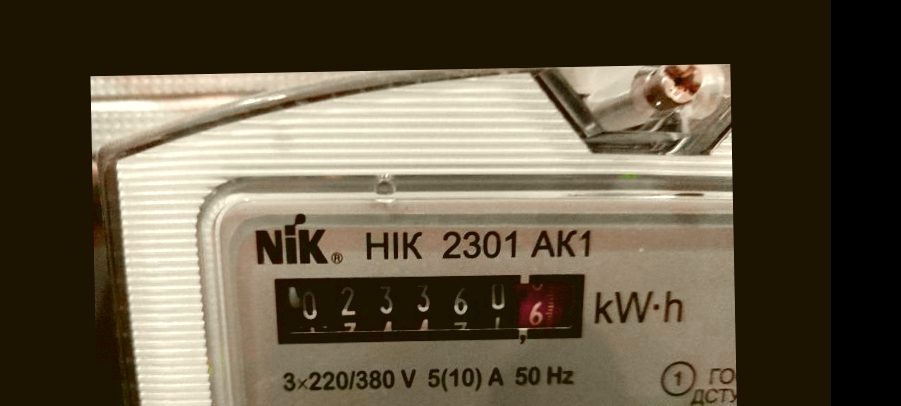0: (298, 286, 319, 320), (489, 279, 506, 310)
2: (336, 283, 359, 317)
3: (374, 282, 395, 314), (413, 280, 432, 312)
6: (449, 282, 469, 315), (524, 296, 546, 325)
screen: (255, 254, 599, 359)
